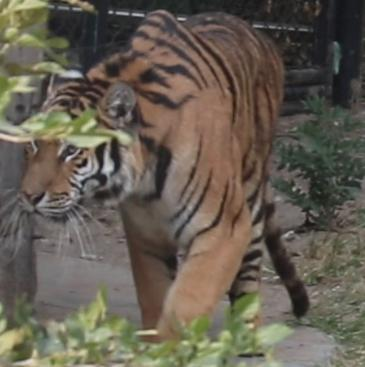tiger: (0, 10, 308, 340)
